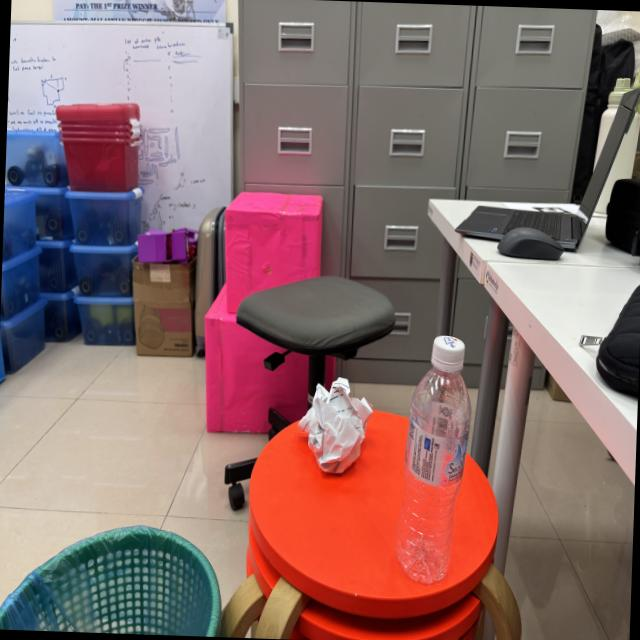crumpled_paper: (297, 371, 378, 483)
plastic_bottle: (396, 322, 478, 592)
